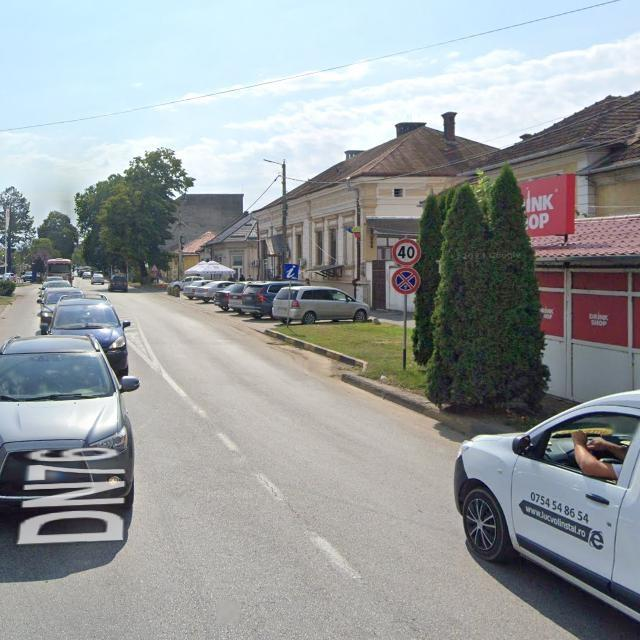forb_speed_over_40: (392, 239, 422, 267)
forb_waiting: (392, 267, 421, 295)
